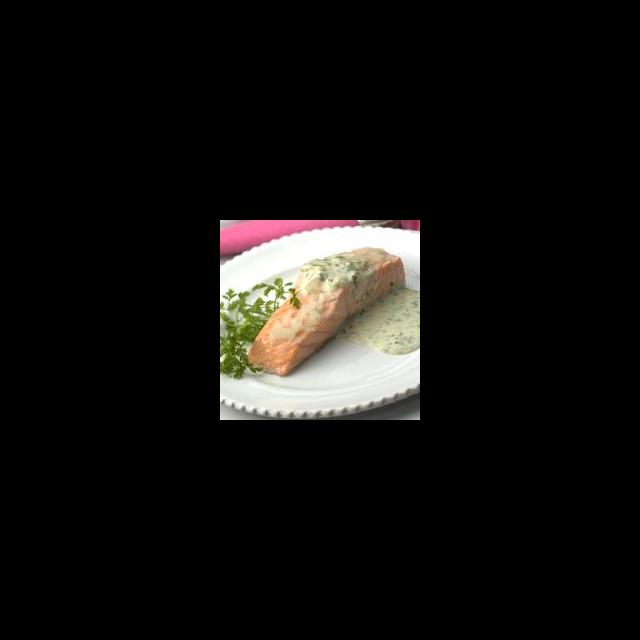ca hoi: (266, 253, 411, 311), (237, 299, 336, 374)
ca hoi sot pho mai kem: (220, 240, 420, 420)
pho mai: (345, 285, 420, 367), (296, 242, 377, 303)
